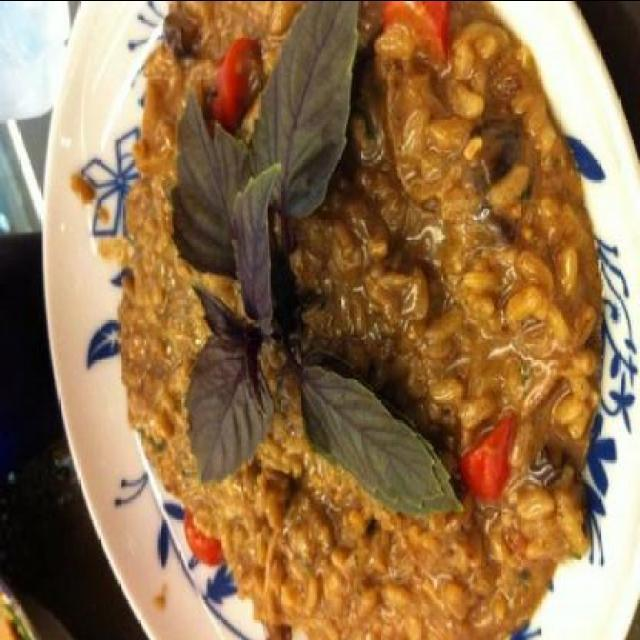Risotto: (162, 25, 580, 613)
